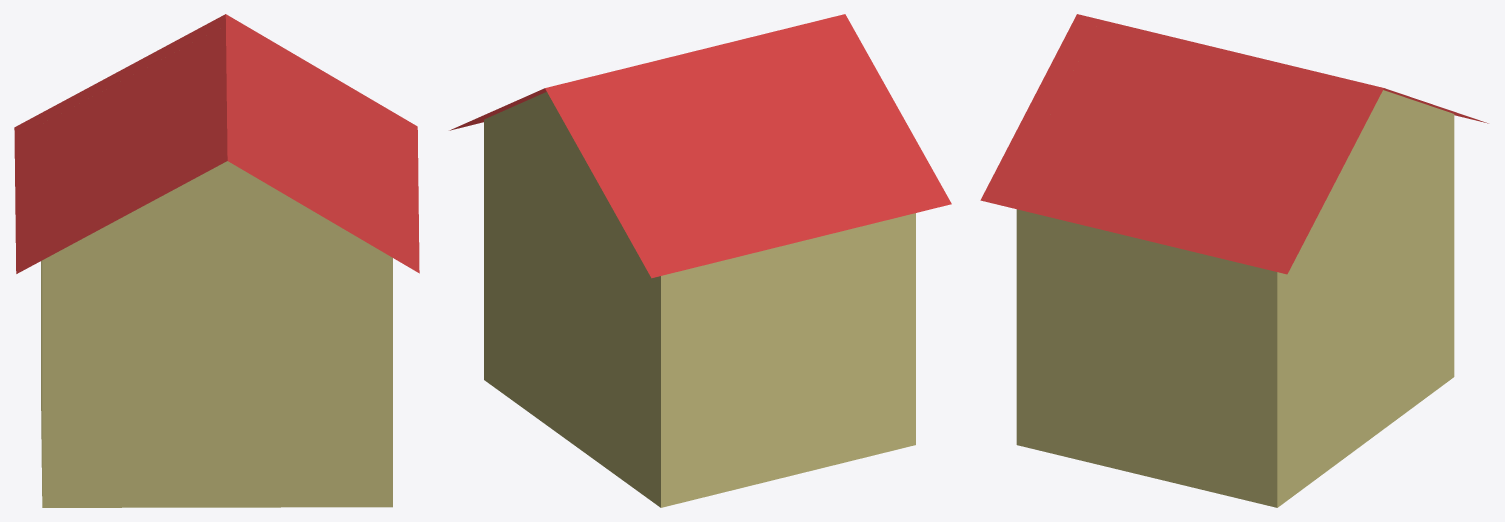
The picture shows the model from 3 angles, left to right: view 1: azimuth 30°, elevation 25°; view 2: azimuth 150°, elevation 25°; view 3: azimuth 270°, elevation 25°; orthographic projection.
Visible parts, largest first — view 1: group_5, group_3, group_4; view 2: group_5, group_3, group_4; view 3: group_5, group_3, group_4.
Part boxes in pixels (left/top/right/bottom): group_5: left=41, top=161, right=392, bottom=507; group_3: left=14, top=14, right=419, bottom=273; group_4: left=14, top=14, right=419, bottom=272; group_5: left=484, top=92, right=915, bottom=507; group_3: left=449, top=14, right=951, bottom=277; group_4: left=520, top=82, right=814, bottom=278; group_5: left=1016, top=90, right=1454, bottom=507; group_3: left=980, top=15, right=1488, bottom=262; group_4: left=981, top=14, right=1470, bottom=274.
Bounding box in the file's own units: 14.94 × 14.35 × 11.28.
